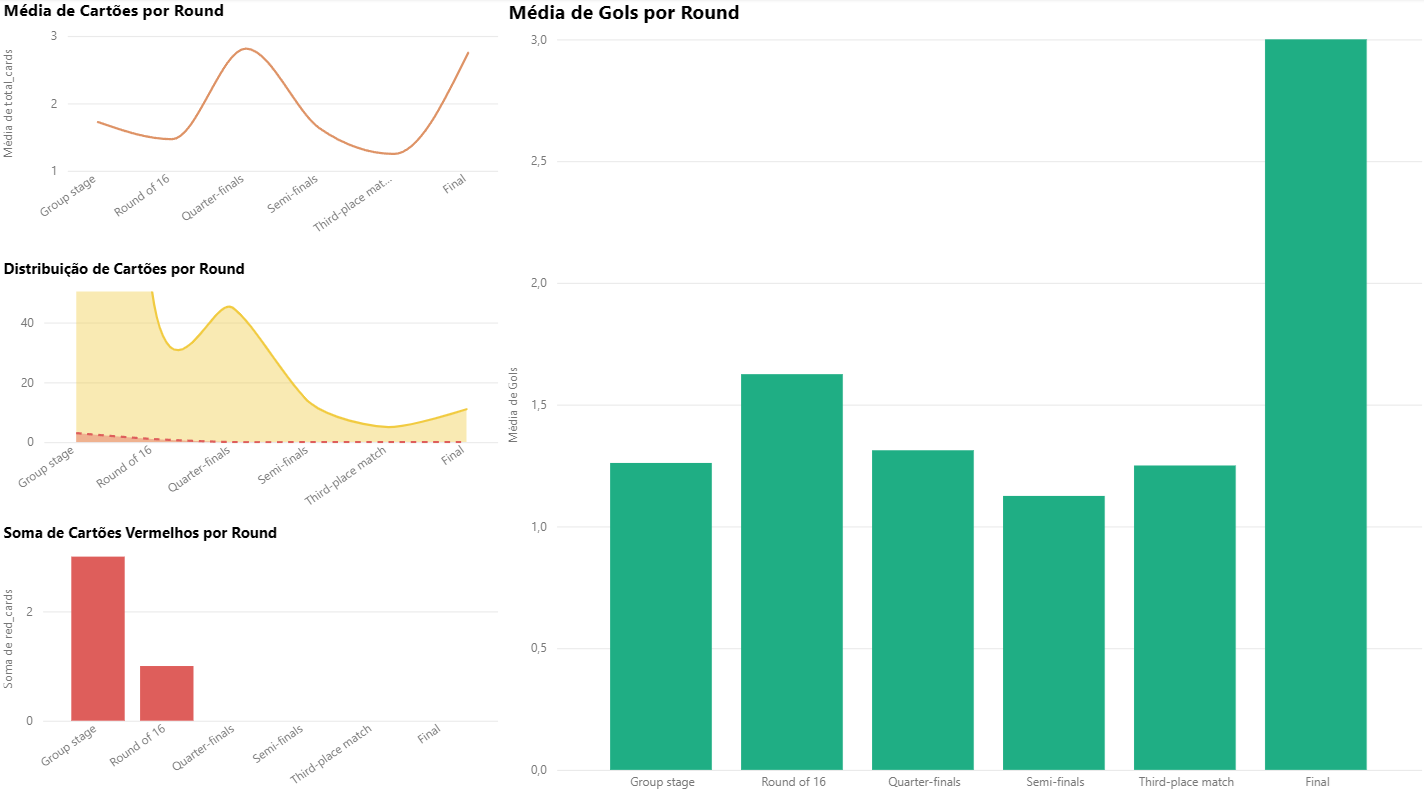

Layout of this report page (visuals, bound fields, positions):
{"tool":"powerbi","page":{"name":"Cartões x Rounds","canvas":[1280,720],"ordinal":1},"visuals":[{"type":"lineChart","title":"Média de Cartões por Round","fields":{"Y":["Avg(matches_simple.total_cards)"],"Category":["Rounds.round"]},"box":[0,0,452.5,221.7],"z":0},{"type":"clusteredColumnChart","title":"Soma de Cartões Vermelhos por Round","fields":{"Y":["Sum(matches_simple.red_cards)"],"Category":["Rounds.round"]},"box":[0,469.7,452.5,250],"z":1000},{"type":"areaChart","title":"Distribuição de Cartões por Round","fields":{"Y":["Sum(matches_simple.yellow_cards)","Sum(matches_simple.red_cards)"],"Category":["Rounds.round"]},"box":[0,232.8,452.5,236.9],"z":2000},{"type":"clusteredColumnChart","title":"Média de Gols por Round","fields":{"Y":["Avg(matches_simple.goals)"],"Category":["Rounds.round"]},"box":[451.9,0,828.1,720.2],"z":3000}]}

Visuals, with their boxes in screenshot pixels (x1, y1, x2, y2), scaled from the page's 1280x720 canvas onto the 1424x798 screenshot:
"Média de Cartões por Round" lineChart: region(0, 0, 503, 246)
"Soma de Cartões Vermelhos por Round" clusteredColumnChart: region(0, 521, 503, 797)
"Distribuição de Cartões por Round" areaChart: region(0, 258, 503, 521)
"Média de Gols por Round" clusteredColumnChart: region(503, 0, 1423, 797)
